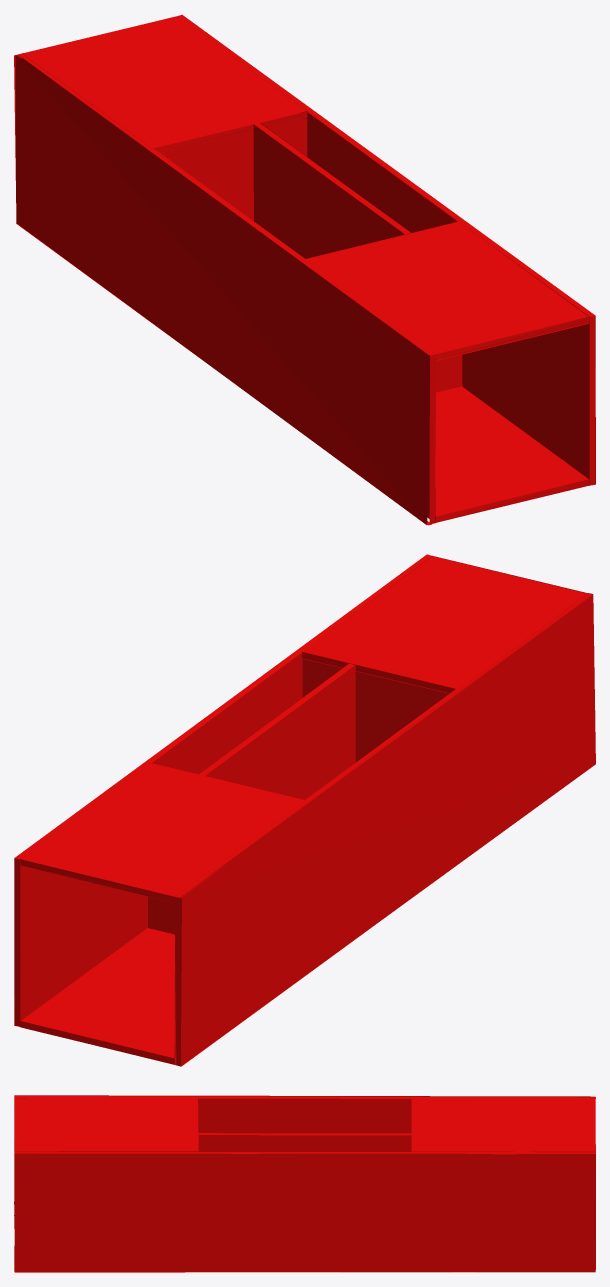
3 renders of one model, top to bottom at view 1: azimuth 30°, elevation 25°; view 2: azimuth 150°, elevation 25°; view 3: azimuth 270°, elevation 25°, orthographic. The views are drawn at different scales.
Parts seen in each view (by area): view 1: Renderer Node; view 2: Renderer Node; view 3: Renderer Node.
Part boxes in pixels (box(x1,y1,x2,y2)): Renderer Node: box(14, 14, 595, 525); Renderer Node: box(14, 554, 595, 1066); Renderer Node: box(14, 1095, 595, 1272).
Bounding box in the file's own units: 0.2256 × 0.2169 × 0.9536.
1 material, 1 textured.
